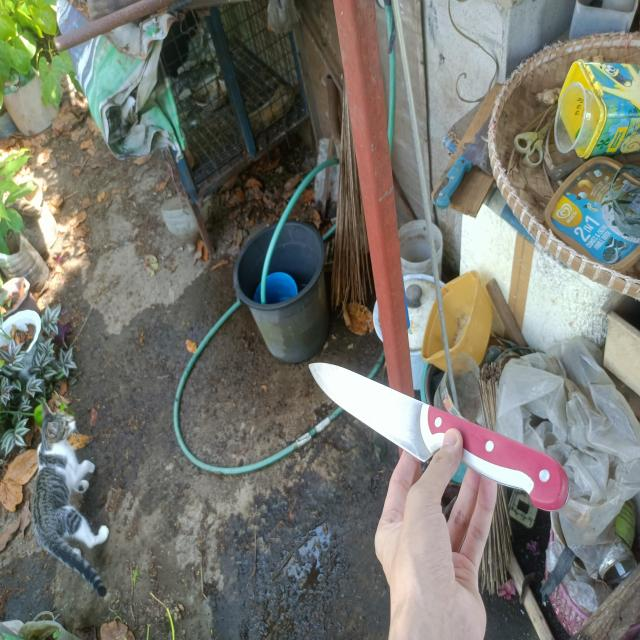knife: (308, 362, 570, 509)
